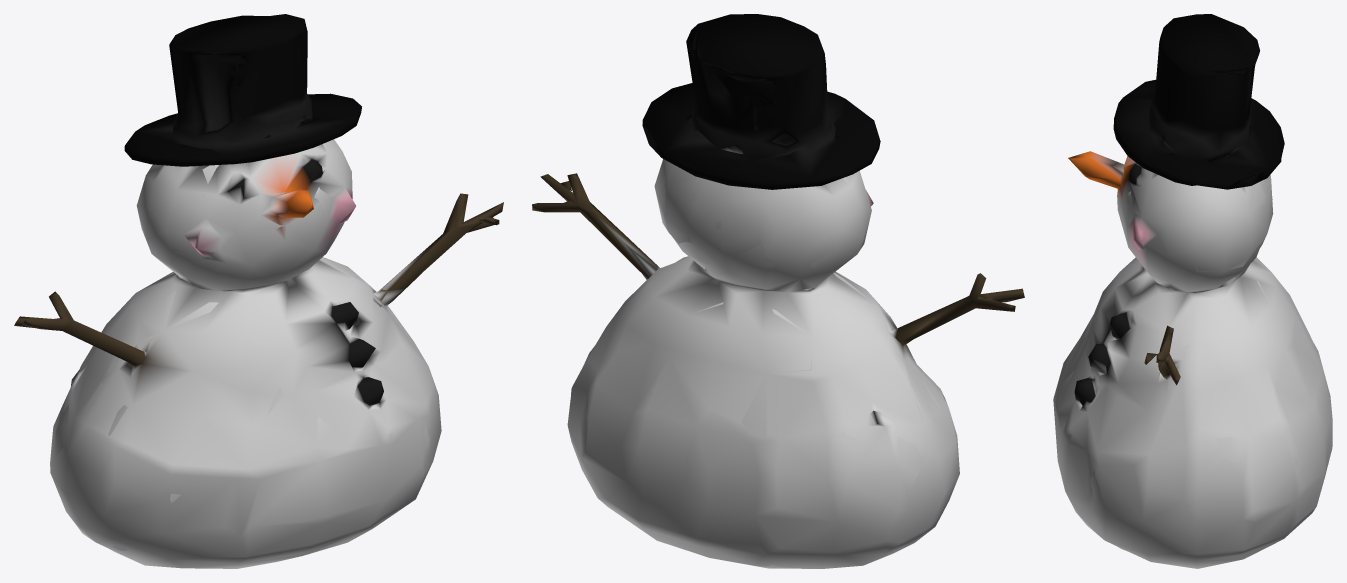
File: gen3d-snowman-with-hat-lod0.glb
3 renders of one model, left to right at view 1: azimuth 30°, elevation 25°; view 2: azimuth 150°, elevation 25°; view 3: azimuth 270°, elevation 25°, orthographic. The views are drawn at different scales.
Parts seen in each view (by area): view 1: part_0; view 2: part_0; view 3: part_0.
Boxes of the visible parts, left/top/right/bottom form: part_0: left=14, top=14, right=503, bottom=568; part_0: left=532, top=14, right=1024, bottom=568; part_0: left=1053, top=14, right=1332, bottom=568.
Bounding box in the file's own units: 1.01 × 0.9943 × 0.5255.
